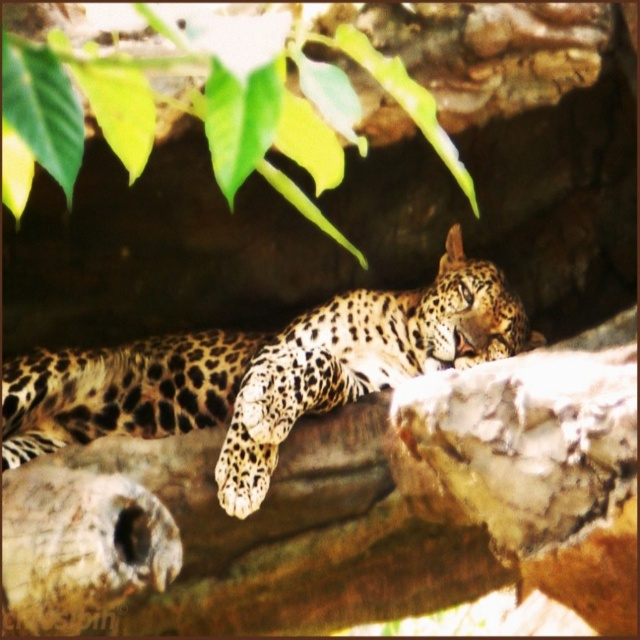Jaguar: (0, 217, 548, 522)
